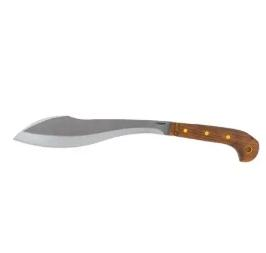MACHETTE: (9, 102, 266, 186)
